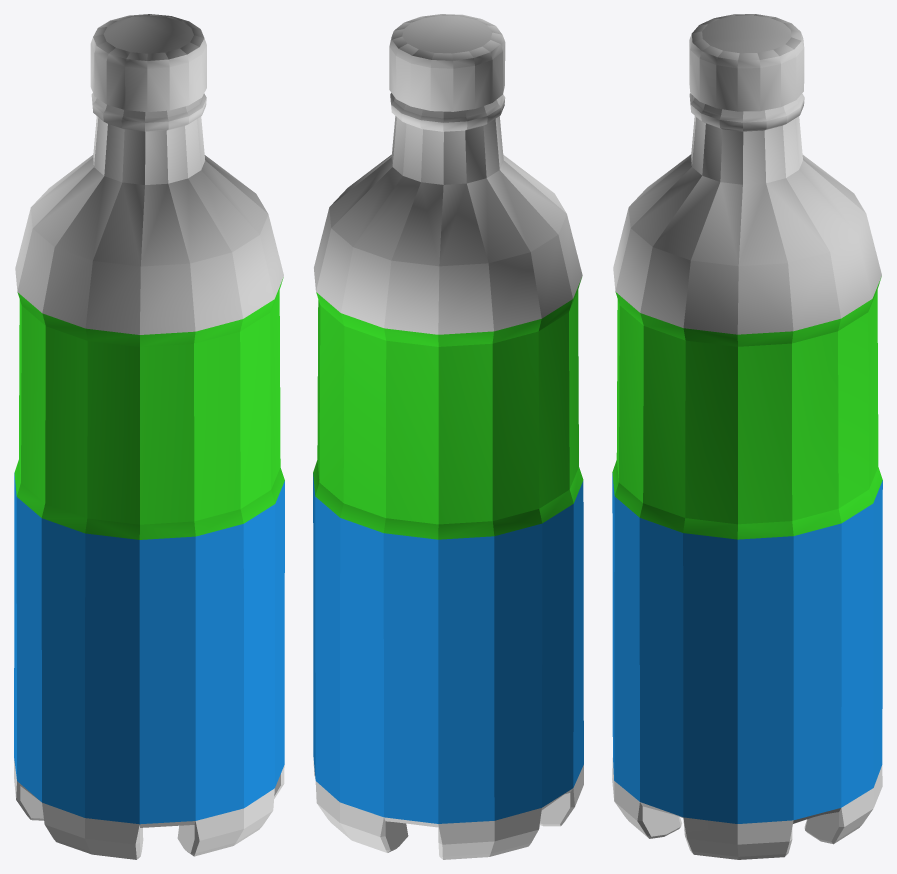
File: Coconut Water.fbx
3 renders of one model, left to right at view 1: azimuth 30°, elevation 25°; view 2: azimuth 150°, elevation 25°; view 3: azimuth 270°, elevation 25°, orthographic.
Visible parts, largest first — view 1: Node 0; view 2: Node 0; view 3: Node 0.
Part boxes in pixels (x1,y1,x2,y2): Node 0: [14, 14, 284, 859]; Node 0: [313, 14, 583, 859]; Node 0: [612, 14, 882, 859].
Size of the model in its own units: 0.0746 by 0.2364 by 0.0748.
